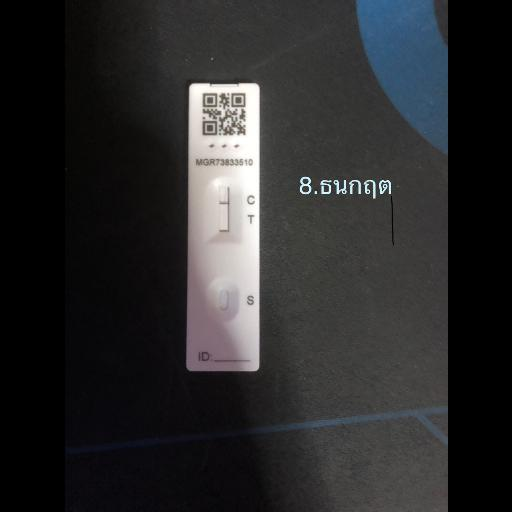Neg: (188, 84, 258, 372)
